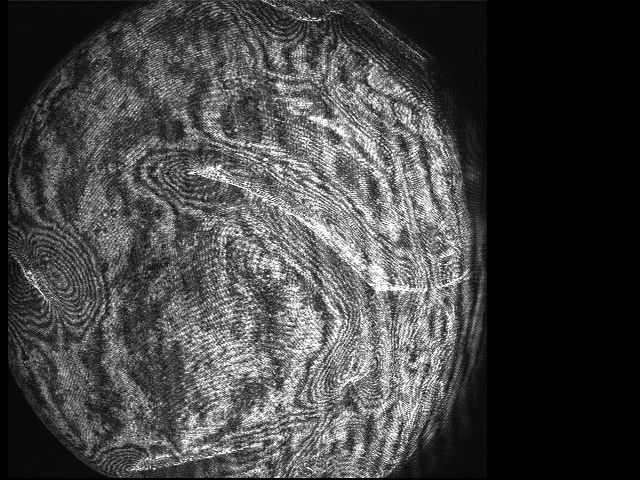plume: (8, 223, 101, 335)
